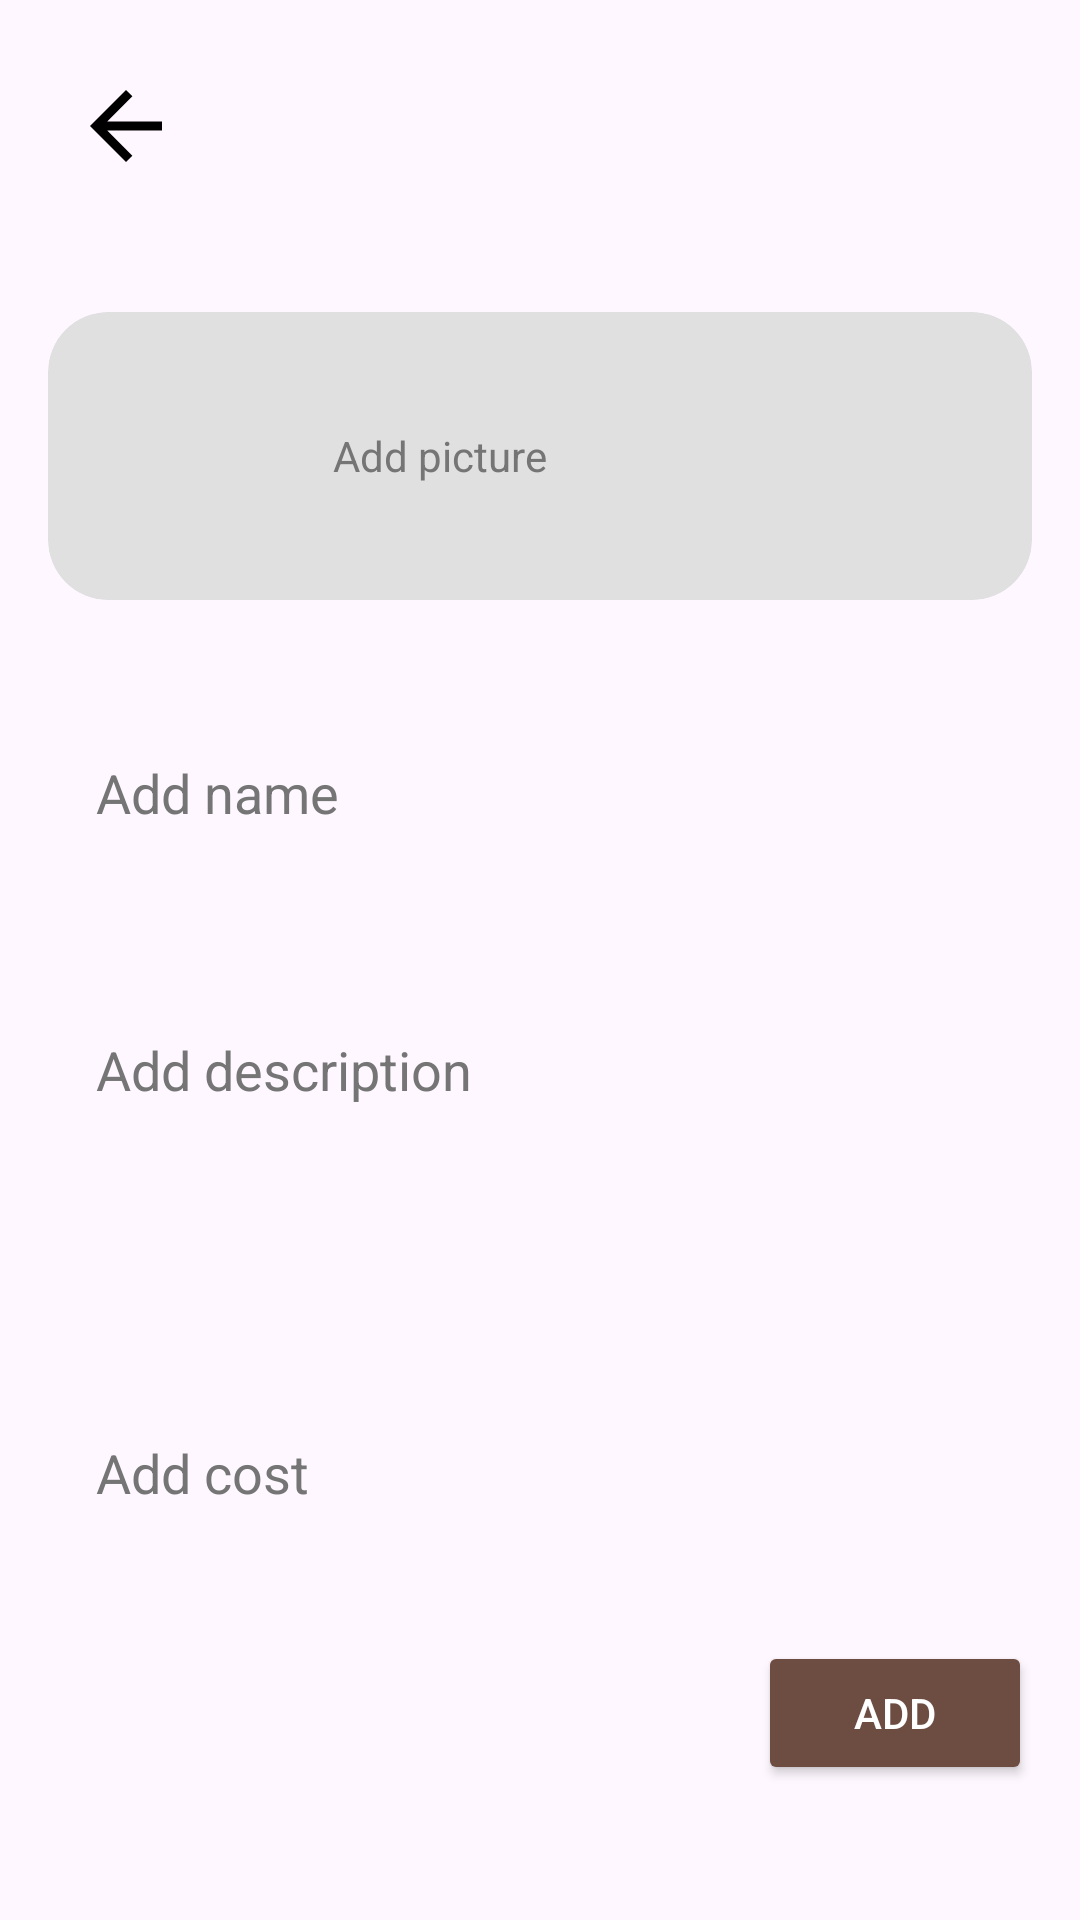

Icon bounding boxes for this 1080w x 1920h phone screenshot, format [left=x1, top=y1, right=x2, bottom=y2]:
Back: [left=90, top=90, right=162, bottom=162]
